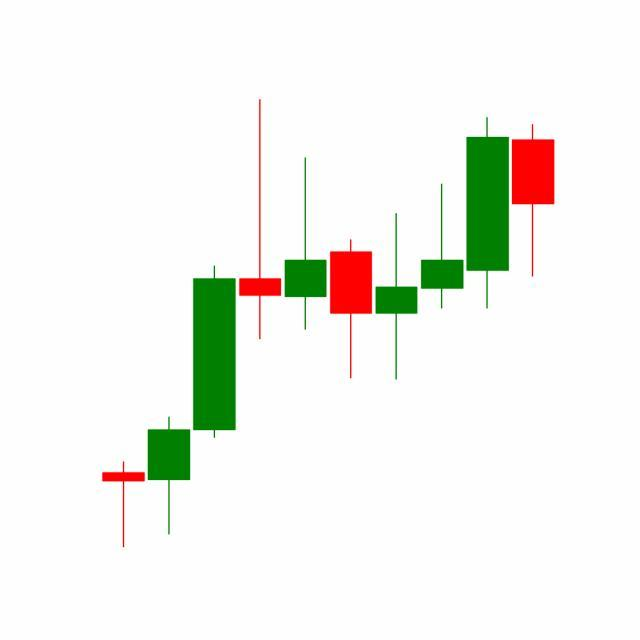Hikkake Pattern: (283, 115, 512, 384)
